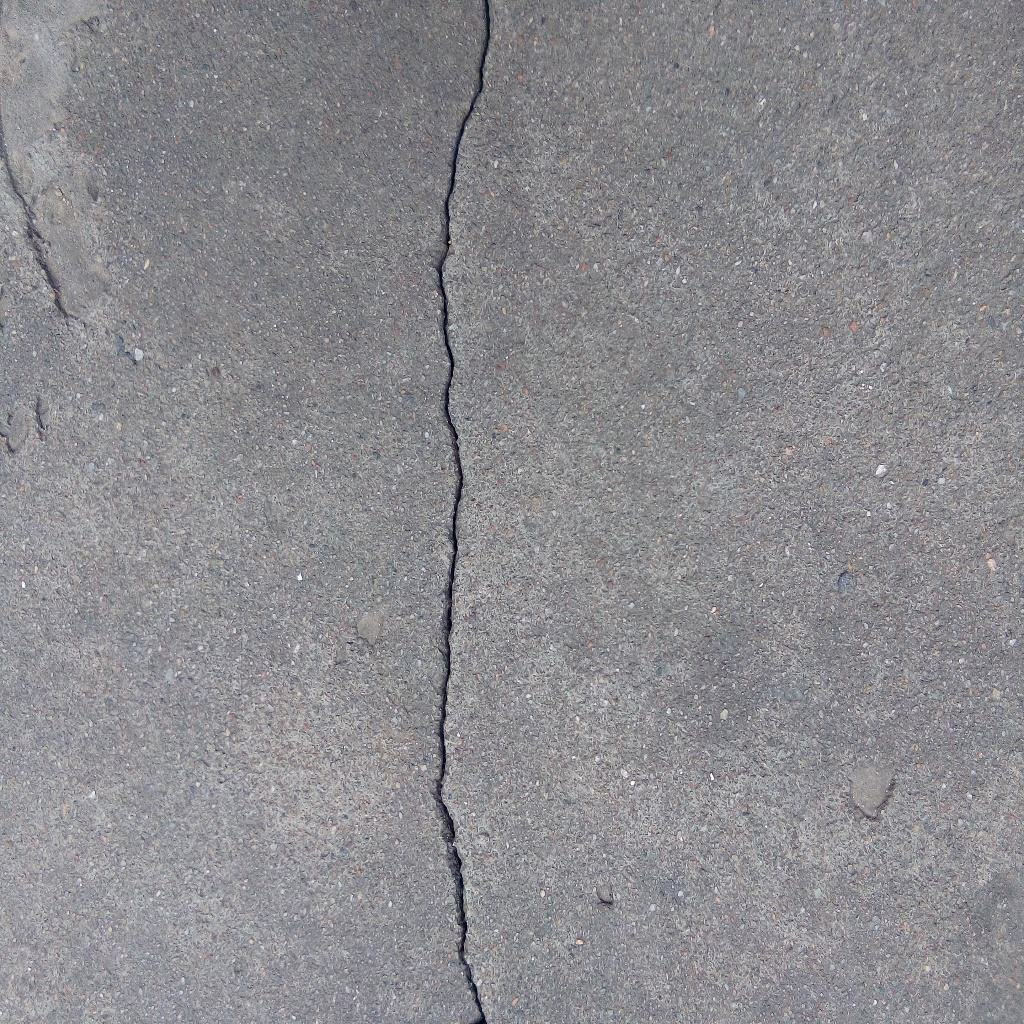Crack: (431, 1, 492, 1024)
Spalling: (1, 1, 113, 324)
